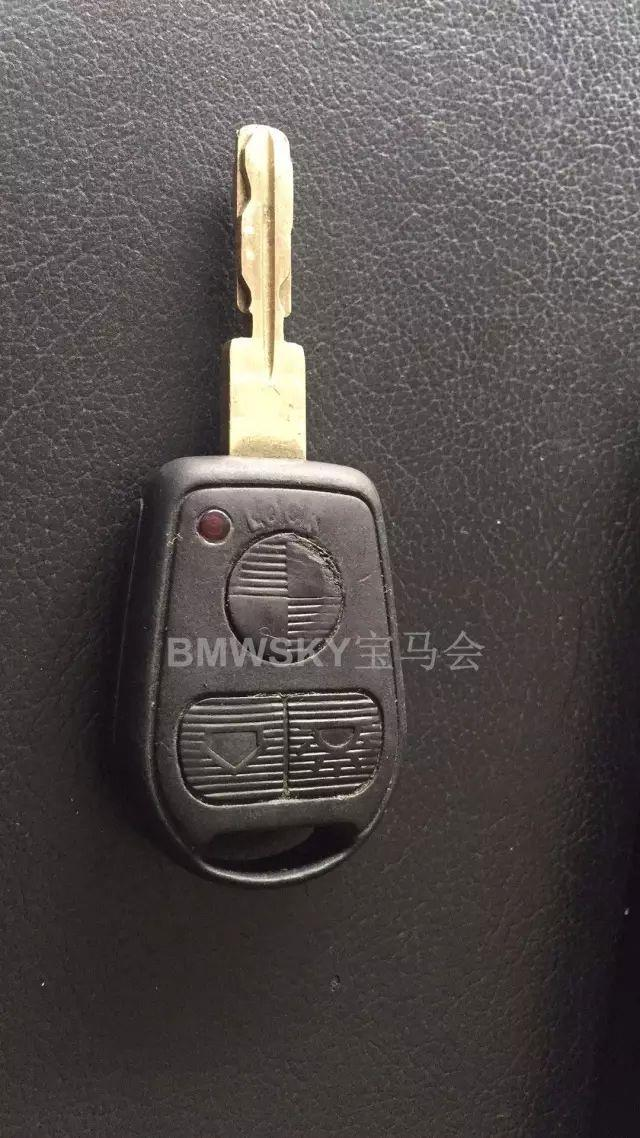key: (108, 115, 411, 895)
